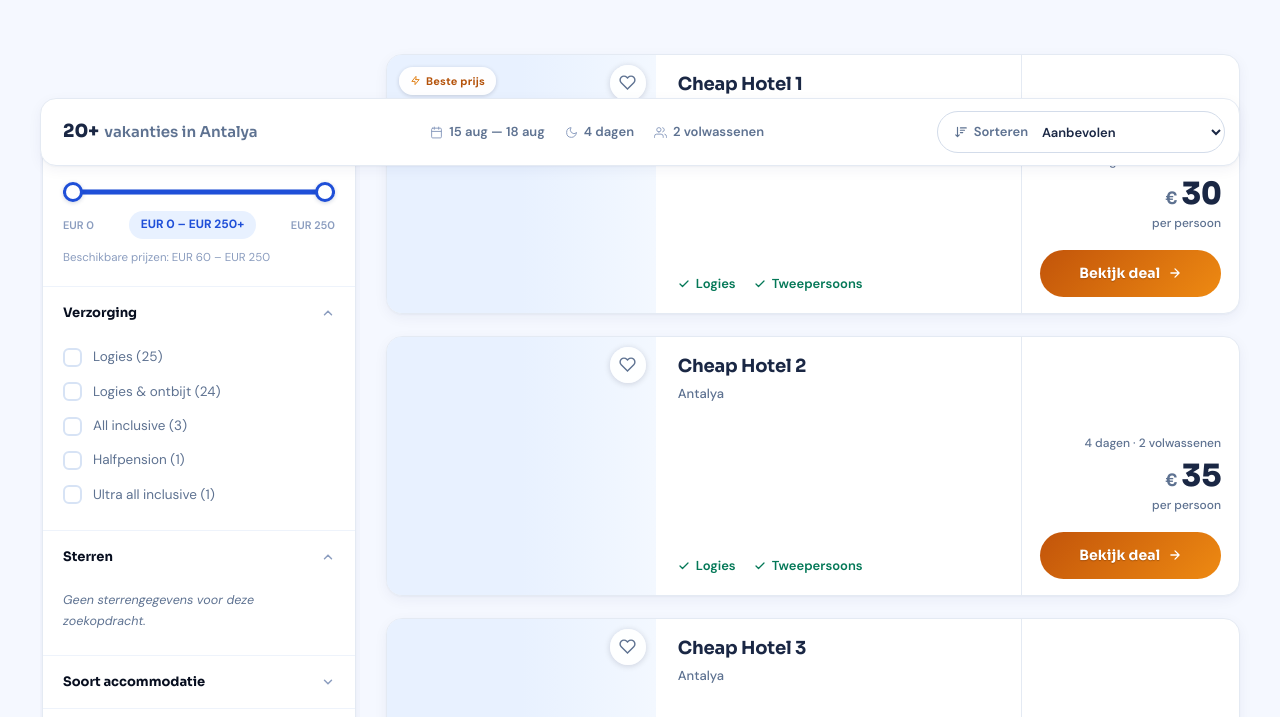
it: board filter › sends boards=AI and surfaces AI hotels that are absent from the unfiltered page
The image size is (1280, 717).
(page scrolled)
Click the checkbox labelled "All inclusive (3)": coordinates (72, 426) 63,417 -> 82,436
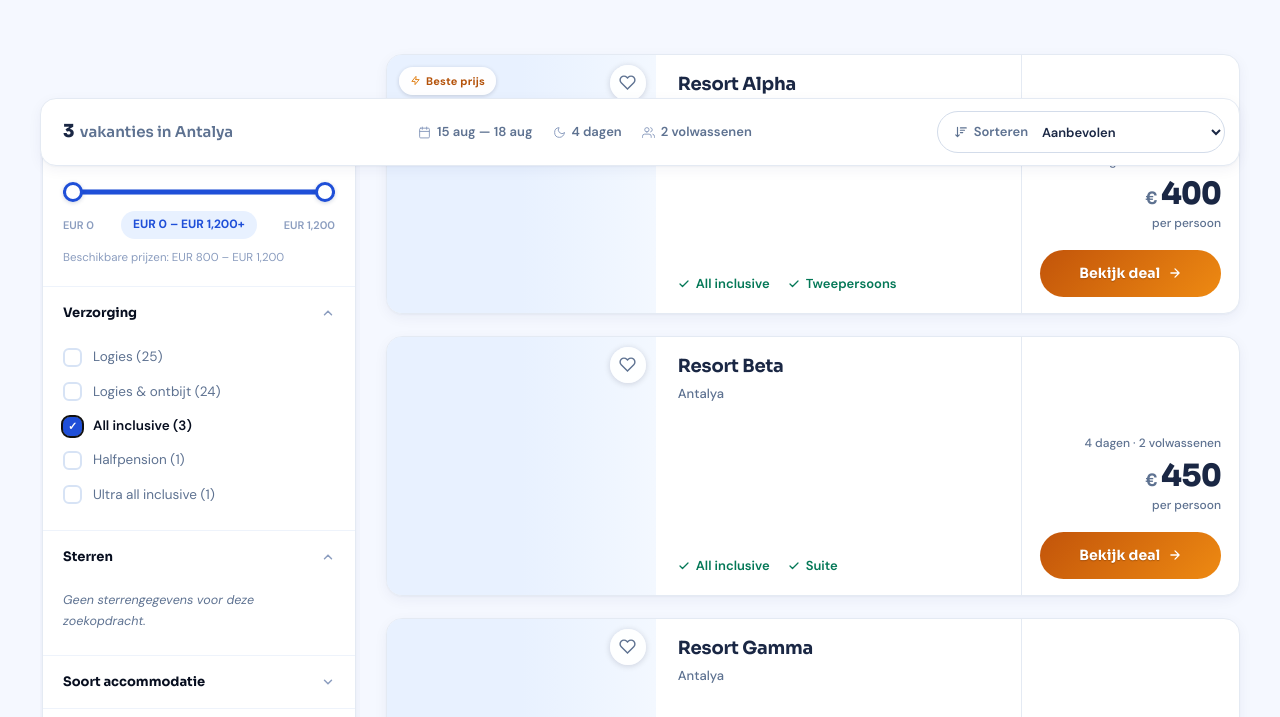
Expected: the element that starts with "Beste prijs" is shown, 386,54 -> 1240,314
Expected: the heading "Resort Alpha" is shown, 678,73 -> 796,95
